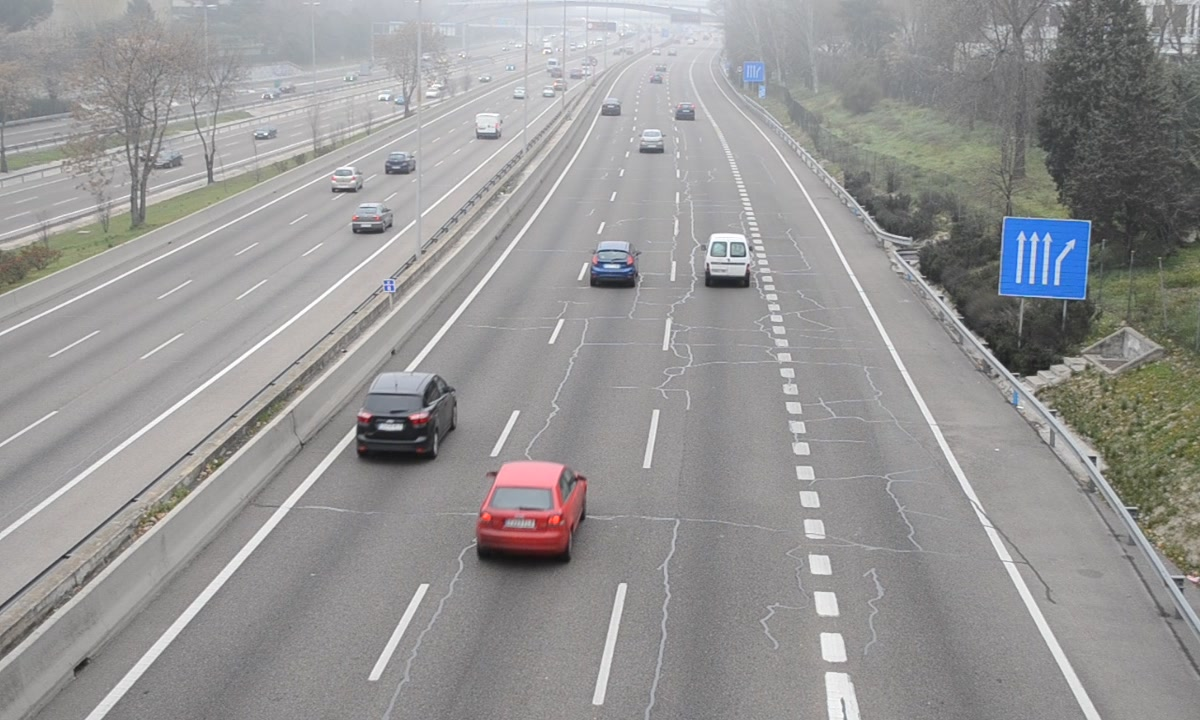car: (478, 462, 583, 558), (357, 371, 454, 459), (591, 239, 636, 284), (638, 127, 666, 152)
van: (704, 232, 752, 286)
